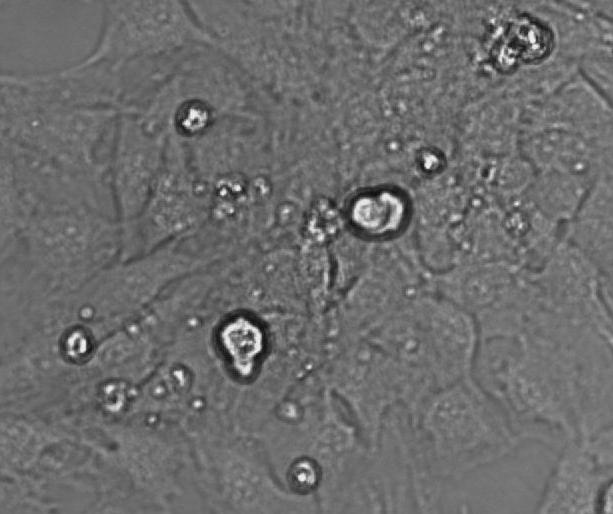Dead: (211, 306, 274, 387), (343, 185, 415, 243), (508, 12, 557, 63), (54, 323, 99, 367), (170, 96, 215, 138), (100, 379, 142, 419), (286, 454, 324, 496), (408, 141, 450, 176), (489, 41, 522, 75)
